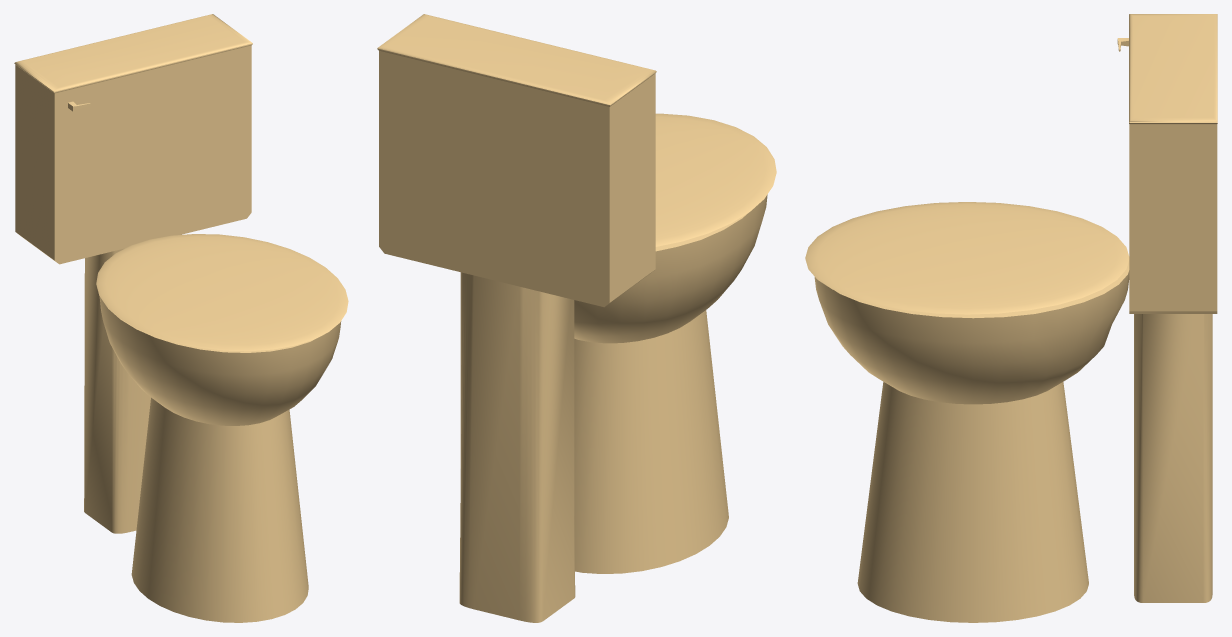
File: Toilet.FBX
3 views of the same model, side by side, from view 1: azimuth 30°, elevation 25°; view 2: azimuth 150°, elevation 25°; view 3: azimuth 270°, elevation 25° (orthographic). The views are drawn at different scales.
Visible parts, largest first — view 1: Toilet; view 2: Toilet; view 3: Toilet.
Boxes of the visible parts, x1=… form: Toilet: x1=14, y1=14, x2=348, y2=622; Toilet: x1=377, y1=14, x2=776, y2=622; Toilet: x1=805, y1=14, x2=1217, y2=622.
Bounding box in the file's own units: 76.3 × 164 × 118.
